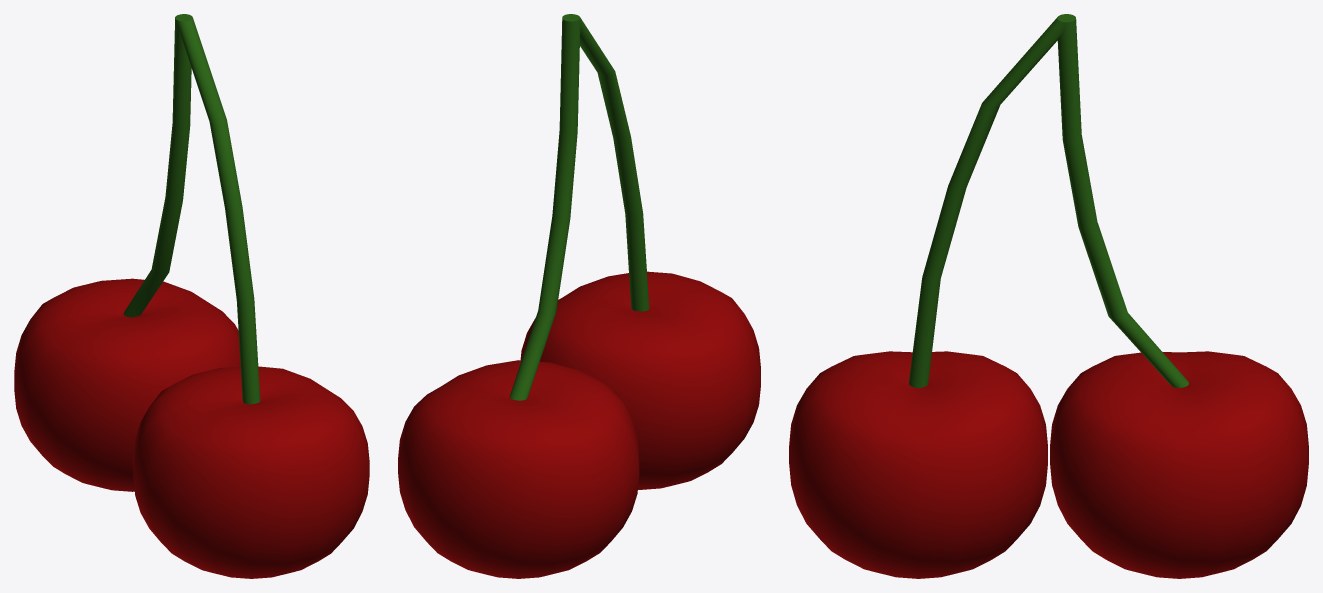
Rendered from cherry.fbx.
3 renders of one model, left to right at view 1: azimuth 30°, elevation 25°; view 2: azimuth 150°, elevation 25°; view 3: azimuth 270°, elevation 25°, orthographic. The views are drawn at different scales.
Visible parts, largest first — view 1: cherryfinal; view 2: cherryfinal; view 3: cherryfinal.
Boxes of the visible parts, x1,y1,x2,y2 form: cherryfinal: (14,14,369,578); cherryfinal: (398,14,760,578); cherryfinal: (789,14,1308,578).
Size of the model in its own units: 0.1673 by 0.3779 by 0.3308.
